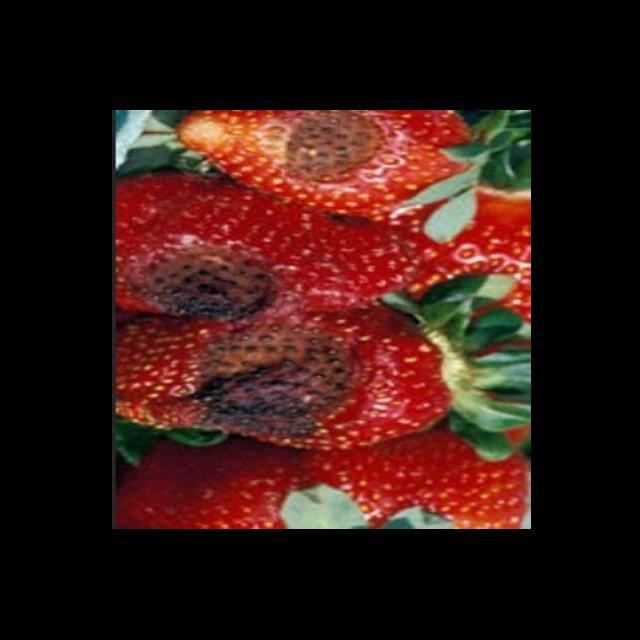Anthracnose Fruit Rot: (187, 317, 359, 442), (125, 232, 279, 324), (279, 111, 389, 192)
